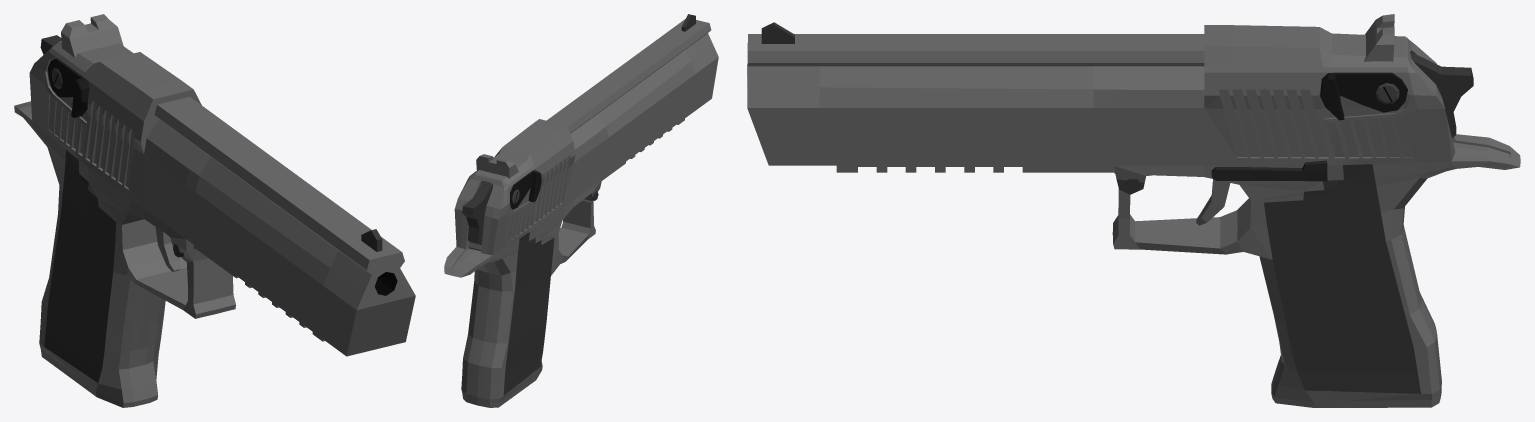
The model's file is DesertEagle.glb.
3 views of the same model, side by side, from view 1: azimuth 30°, elevation 25°; view 2: azimuth 150°, elevation 25°; view 3: azimuth 270°, elevation 25° (orthographic). The views are drawn at different scales.
Visible parts, largest first — view 1: Deagle; view 2: Deagle; view 3: Deagle.
Part boxes in pixels (x1,y1,x2,y2): Deagle: (14, 14, 415, 407); Deagle: (444, 14, 718, 407); Deagle: (747, 14, 1520, 407).
Bounding box in the file's own units: 0.4054 × 1.76 × 3.33.
1 material, 1 textured.
